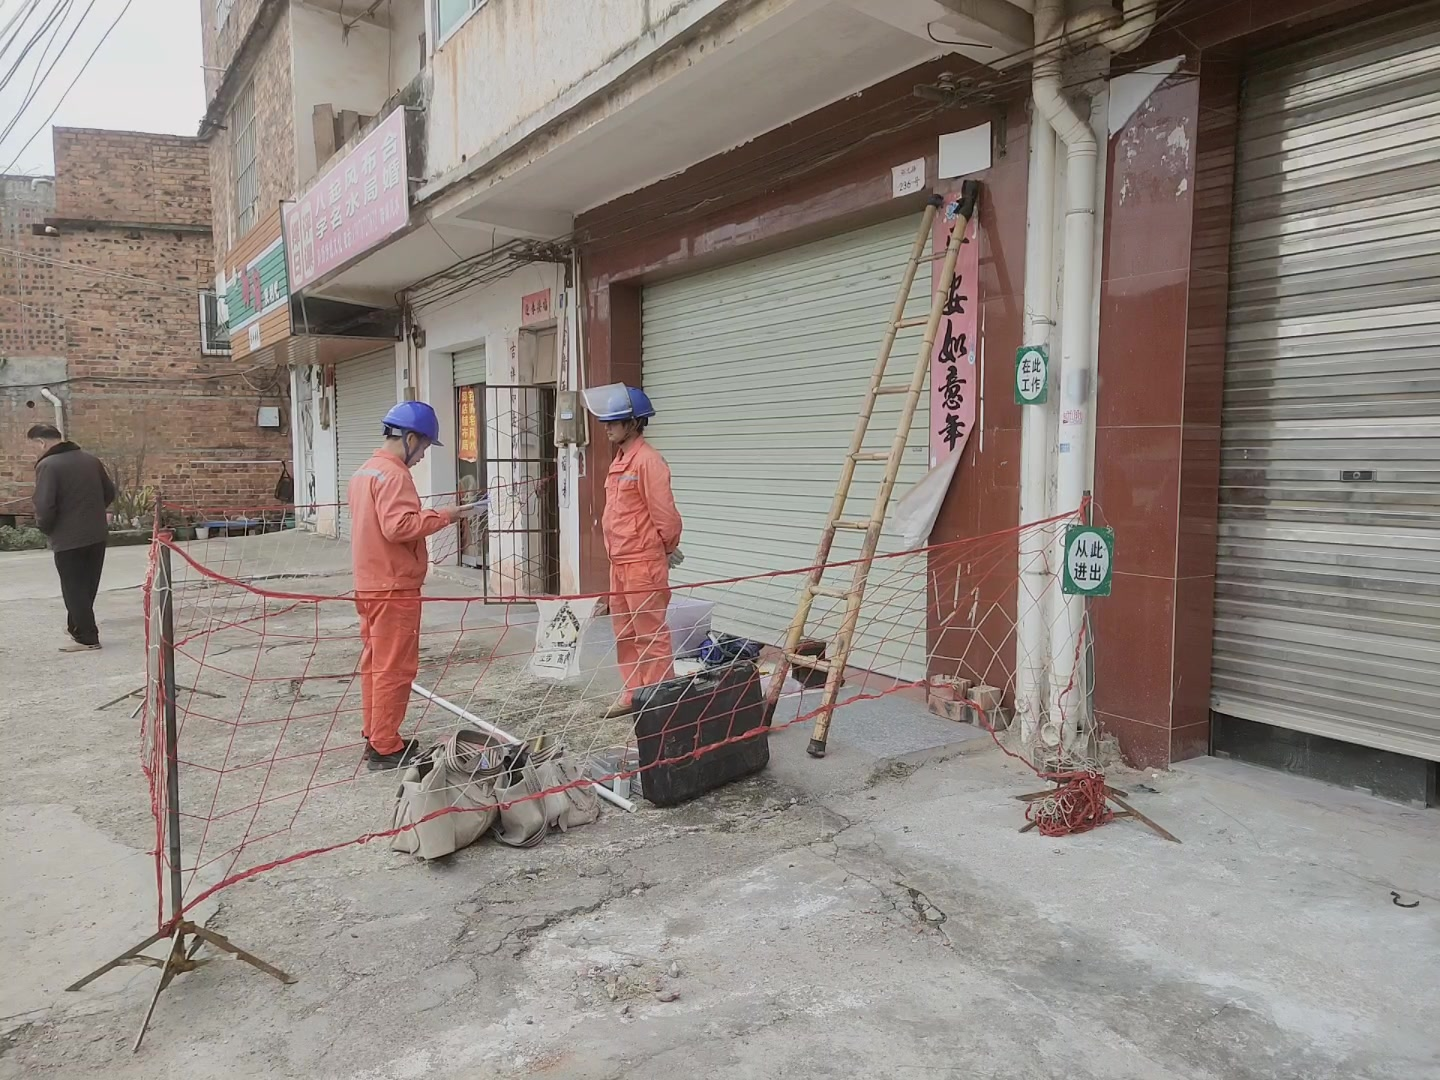downcloth: (54, 549, 109, 644)
halt: (380, 400, 444, 468), (588, 383, 653, 437)
hand: (443, 503, 475, 525), (665, 547, 685, 571)
inear: (401, 429, 423, 461), (625, 411, 647, 437)
intosign: (1060, 523, 1118, 597)
noear: (33, 434, 49, 454)
person: (343, 394, 453, 766), (572, 377, 689, 707), (27, 413, 120, 656)
unhalt: (30, 422, 70, 457)
upcloth: (36, 448, 115, 546)
worksign: (1011, 342, 1052, 407)
ydownsuit: (607, 557, 680, 703), (353, 592, 418, 752)
yupsuit: (353, 454, 426, 592), (603, 446, 678, 560)
